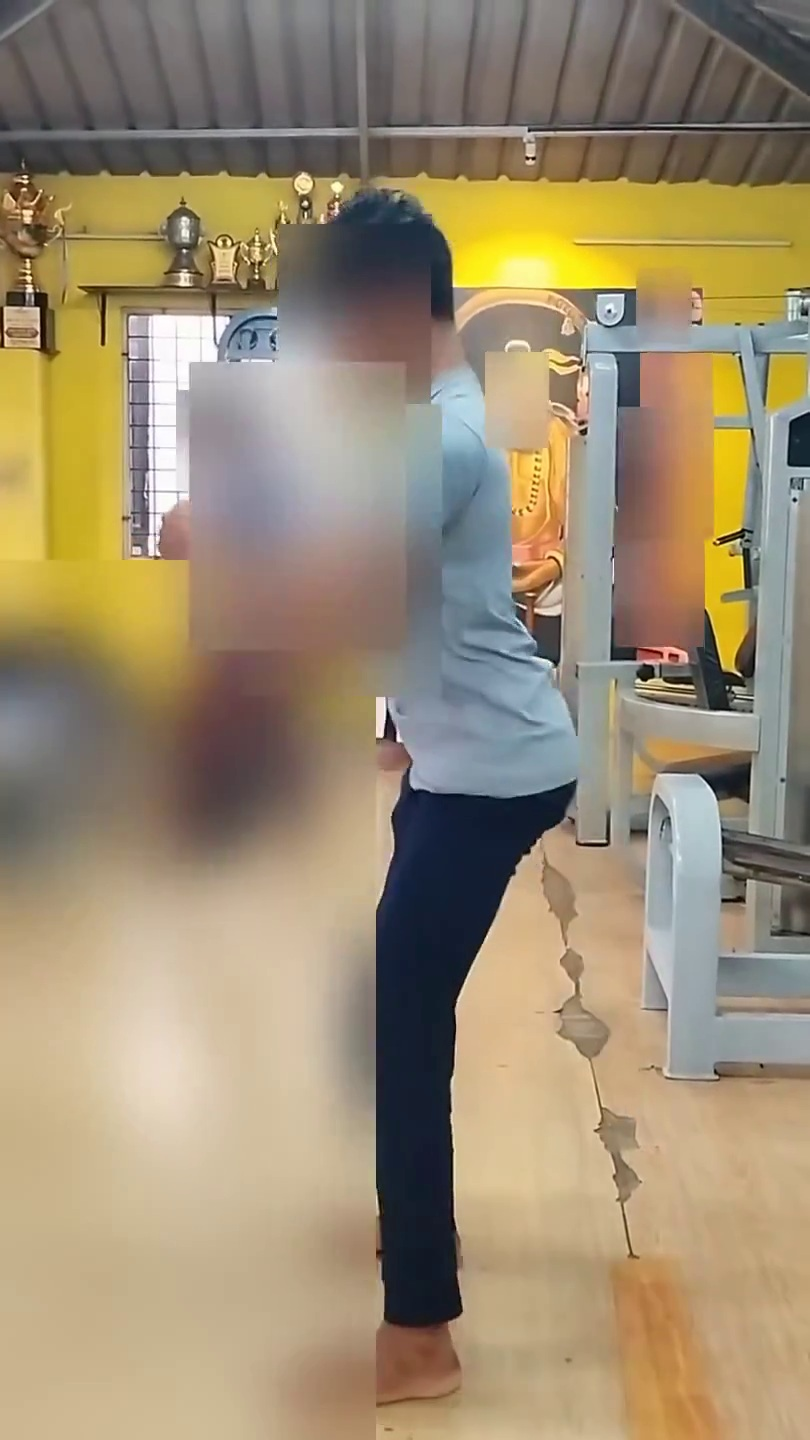squat: (149, 210, 607, 1440)
